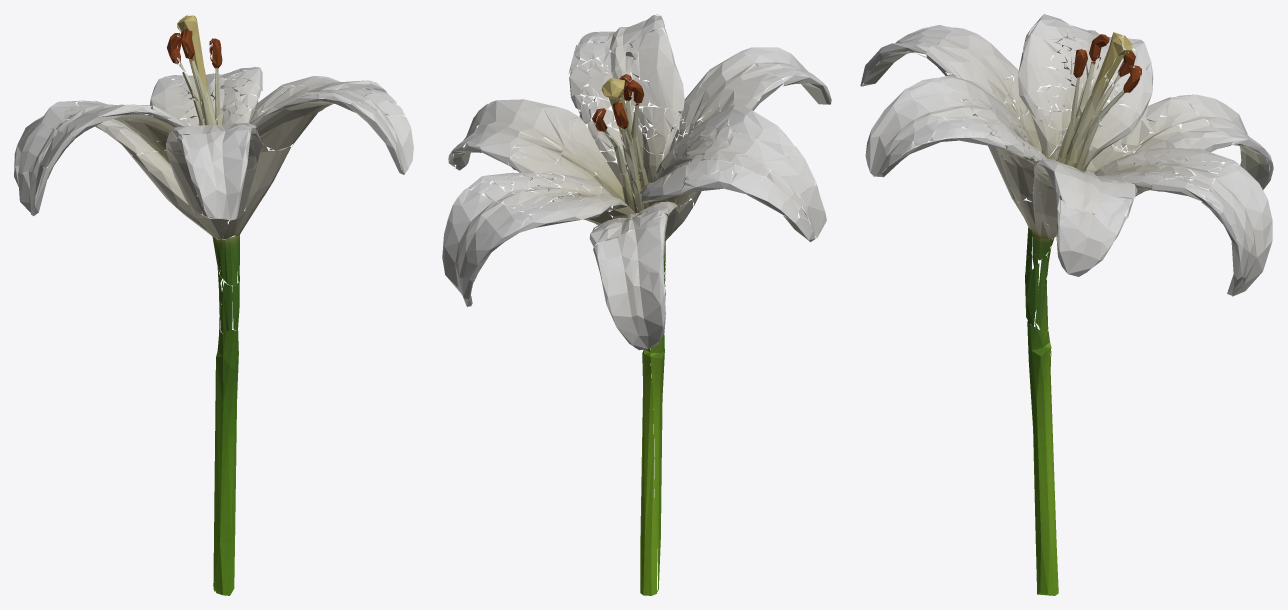
Rendered from flor_08_lirio.glb.
The picture shows the model from 3 angles, left to right: view 1: azimuth 30°, elevation 25°; view 2: azimuth 150°, elevation 25°; view 3: azimuth 270°, elevation 25°; orthographic projection. The views are drawn at different scales.
Parts seen in each view (by area): view 1: tripo_node_97e935e6-20fe-4980-b22d-d6169ac9f196; view 2: tripo_node_97e935e6-20fe-4980-b22d-d6169ac9f196; view 3: tripo_node_97e935e6-20fe-4980-b22d-d6169ac9f196.
Part boxes in pixels (x1,y1,x2,y2): tripo_node_97e935e6-20fe-4980-b22d-d6169ac9f196: (14, 14, 413, 595); tripo_node_97e935e6-20fe-4980-b22d-d6169ac9f196: (442, 14, 831, 595); tripo_node_97e935e6-20fe-4980-b22d-d6169ac9f196: (860, 14, 1273, 595).
Size of the model in its own units: 0.6832 by 0.9821 by 0.6566.
1 material, 1 textured.
